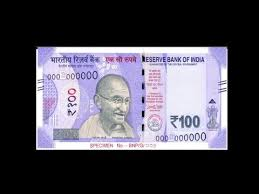hundred: (46, 66, 212, 133)
